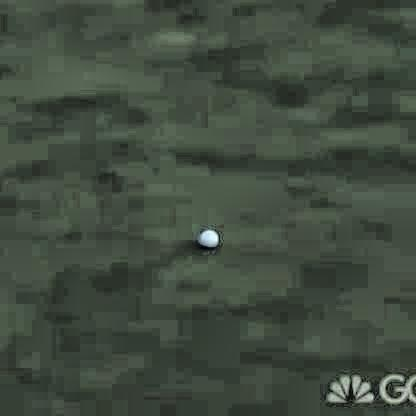golfball: (197, 228, 216, 246)
